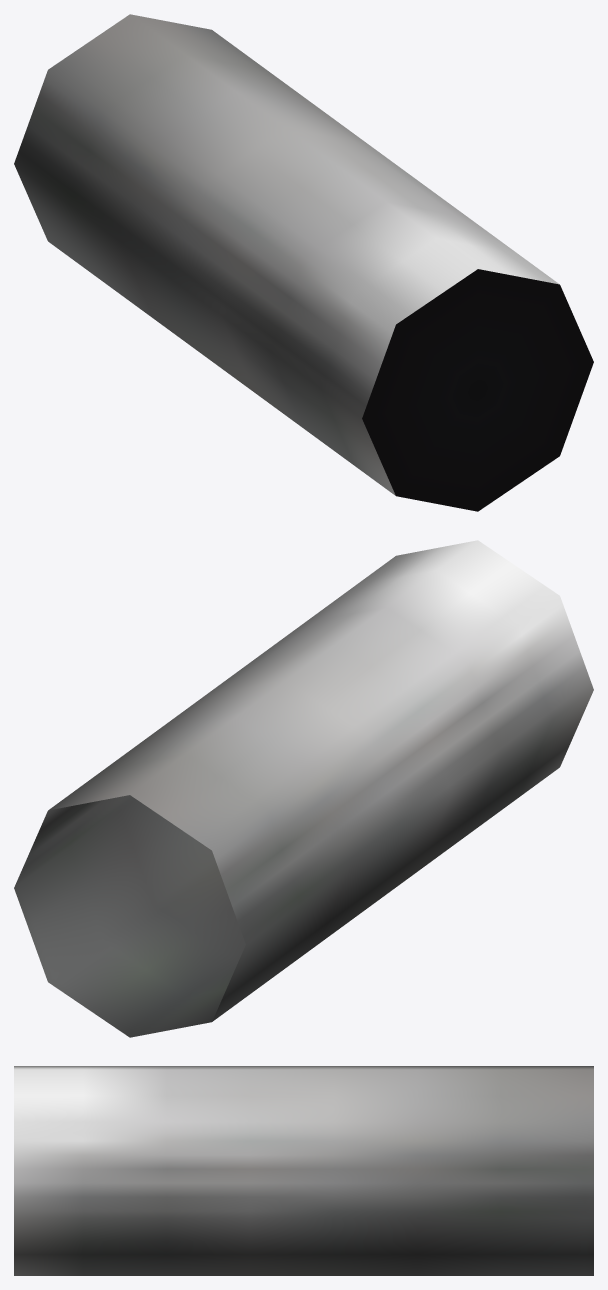
The model's file is exh_b_s.glb.
3 renders of one model, top to bottom at view 1: azimuth 30°, elevation 25°; view 2: azimuth 150°, elevation 25°; view 3: azimuth 270°, elevation 25°, orthographic. The views are drawn at different scales.
Visible parts, largest first — view 1: exh_b_s; view 2: exh_b_s; view 3: exh_b_s.
Boxes of the visible parts, bbox=[...] form: exh_b_s: bbox=[14, 14, 593, 511]; exh_b_s: bbox=[14, 540, 593, 1037]; exh_b_s: bbox=[14, 1066, 593, 1275].
Size of the model in its own units: 0.0687 by 0.0687 by 0.1785.
2 materials, 2 textured.
